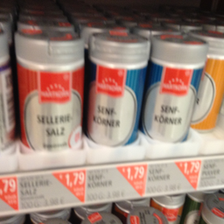spices: (15, 28, 84, 149), (86, 30, 149, 147), (147, 33, 209, 143)
